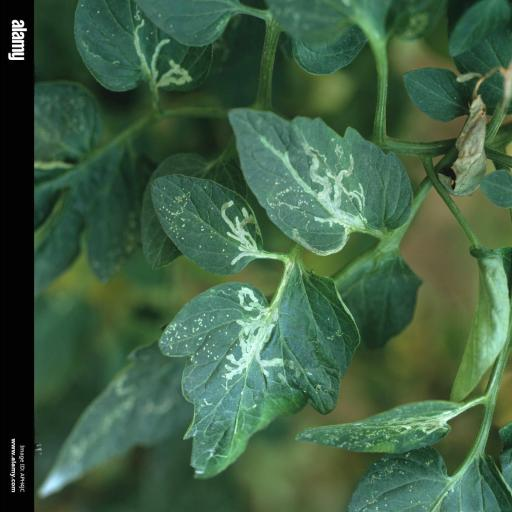Leaf Miner: (158, 270, 366, 482), (226, 102, 414, 257), (146, 172, 264, 276)
